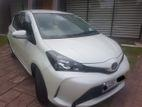car: (6, 9, 130, 106)
